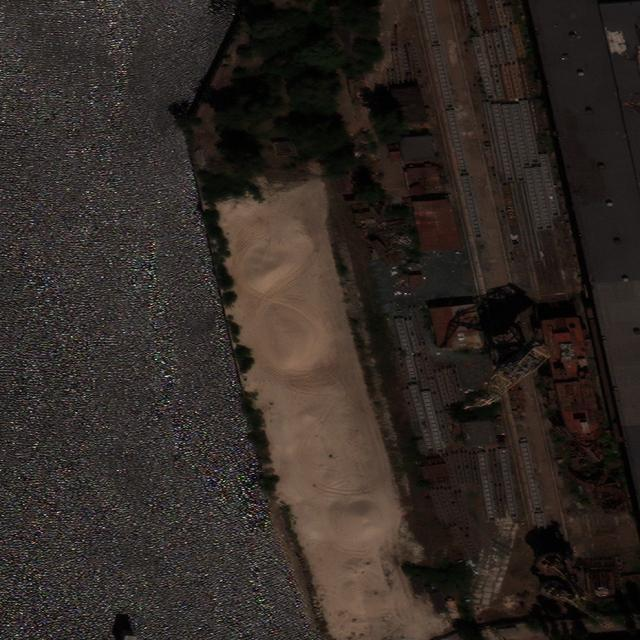Other Ship: (540, 312, 608, 447)
